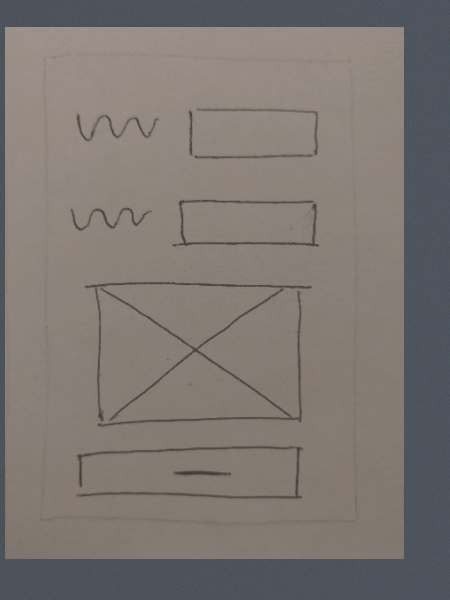button: (69, 441, 311, 505)
image: (76, 273, 319, 432)
text: (72, 101, 171, 159), (61, 191, 158, 241)
text_input: (167, 191, 330, 257), (181, 99, 330, 171)
